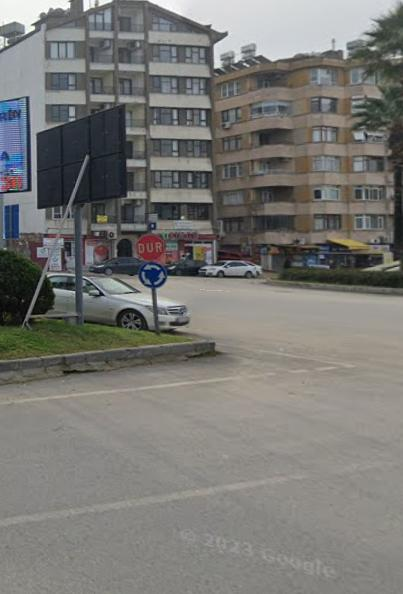crossroads: (139, 263, 168, 287)
stop: (134, 234, 165, 260)
